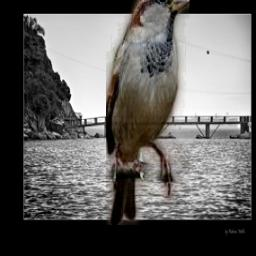Sparrow: (107, 0, 190, 226)
